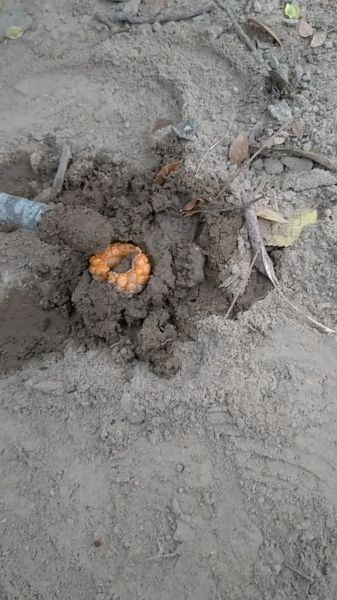eggs: (77, 233, 158, 304)
